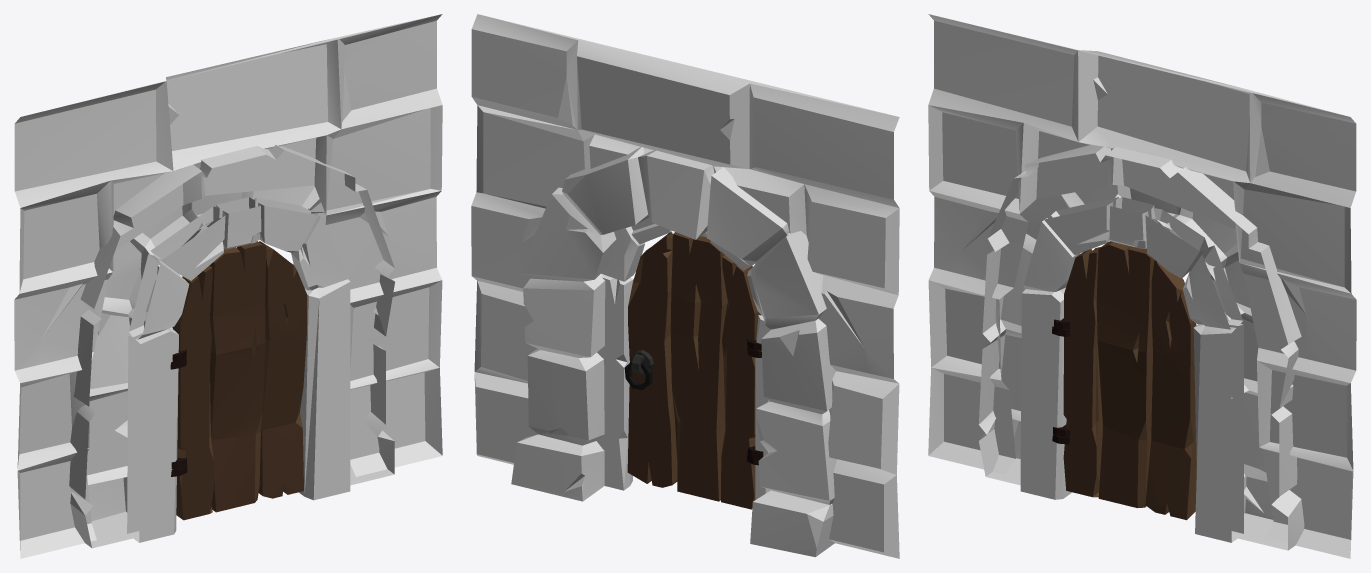
Rendered from NGF_Env_Stone_doorway_04.fbx.
3 views of the same model, side by side, from view 1: azimuth 30°, elevation 25°; view 2: azimuth 150°, elevation 25°; view 3: azimuth 330°, elevation 25° (orthographic).
Visible parts, largest first — view 1: NGF_Env_Stone_doorway_04, NGF_Env_Door_arc_06, NGF_Env_Door_09; view 2: NGF_Env_Stone_doorway_04, NGF_Env_Door_09, NGF_Env_Door_arc_06; view 3: NGF_Env_Stone_doorway_04, NGF_Env_Door_09, NGF_Env_Door_arc_06.
Part boxes in pixels (box(x1,y1,x2,y2)): NGF_Env_Stone_doorway_04: box(14, 14, 442, 558); NGF_Env_Door_arc_06: box(127, 197, 350, 542); NGF_Env_Door_09: box(172, 241, 306, 520); NGF_Env_Stone_doorway_04: box(471, 14, 899, 558); NGF_Env_Door_09: box(627, 232, 761, 509); NGF_Env_Door_arc_06: box(596, 217, 770, 499); NGF_Env_Stone_doorway_04: box(928, 14, 1356, 558); NGF_Env_Door_09: box(1063, 241, 1196, 520); NGF_Env_Door_arc_06: box(1020, 197, 1243, 542).
Size of the model in its own units: 4 by 4 by 0.6083.
Materials: 1 (1 with a texture image).
